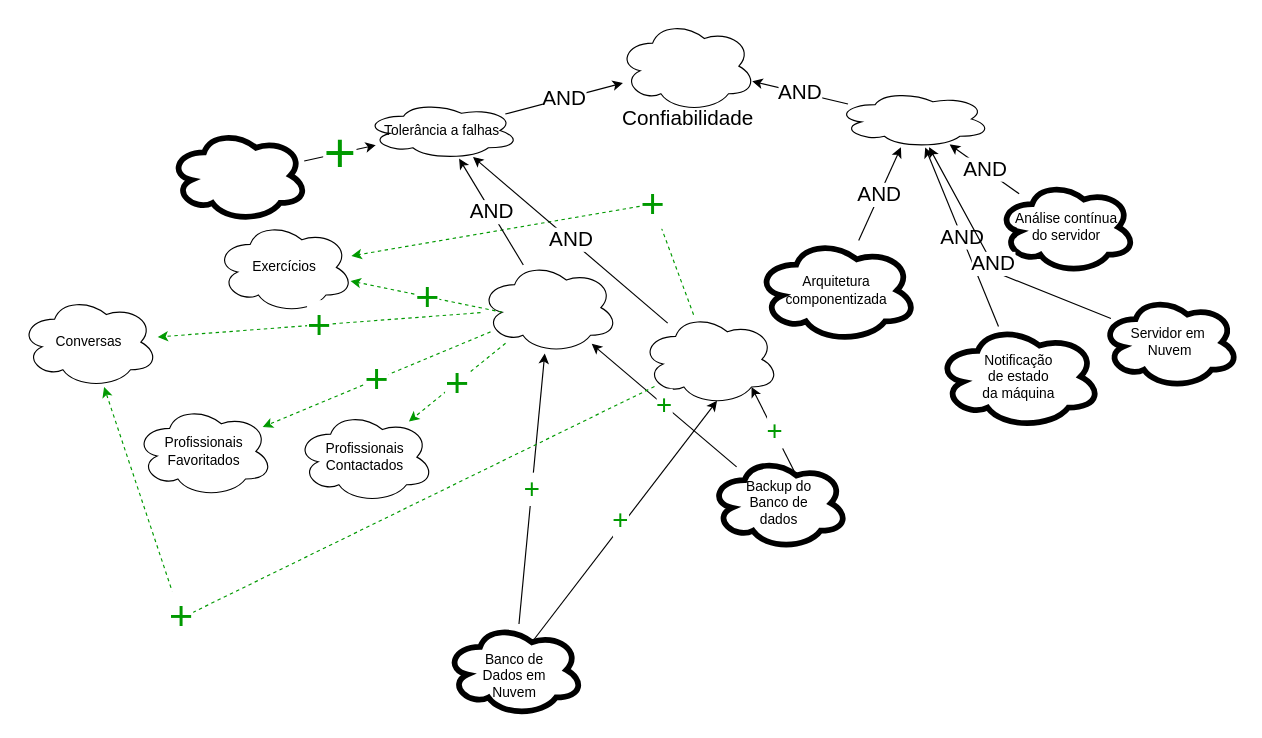
Image size: 1262x738. Some labels were removed from this diagram. Each missing label, with the box of its shape:
Baixo acoplamento: (166, 126, 310, 224)
Dados do cliente: (479, 260, 618, 354)
Dados do Profissional: (640, 312, 779, 405)
Recuperabilidade: (835, 89, 991, 148)
